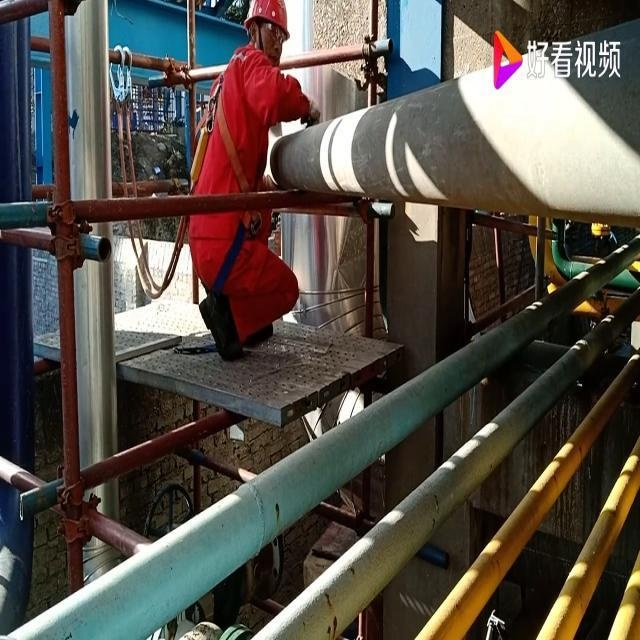Arnes_seguridad: (193, 44, 275, 304)
